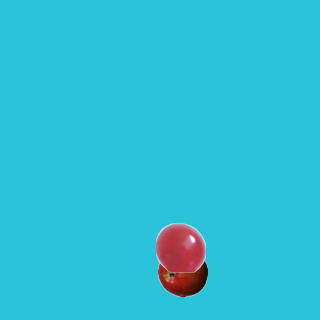Apple Braeburn: (157, 247, 207, 297)
Redcurrant: (155, 222, 205, 272)
